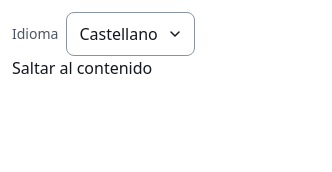
LanguageSelector › [frontend_i18n.AC-02] changes every text without reloading and remembers the choice
Expected: the text with test id "probe" reads "Saltar al contenido", [12,57,152,79]
Step 1. Select "Valencià" in the dropdown labelled "Idioma" → coordinates (131, 34), box [66,12,195,56]
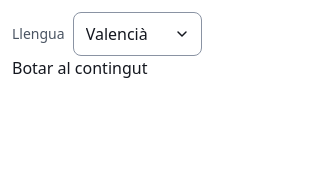
Expected: the text with test id "probe" reads "Botar al contingut", [12,57,147,79]
